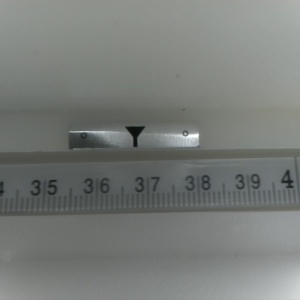3: (82, 178, 93, 194), (30, 180, 41, 196), (234, 174, 245, 190), (134, 176, 144, 192), (184, 175, 194, 191)
4: (280, 169, 295, 189)
5: (47, 180, 57, 195)
6: (98, 177, 109, 193)
7: (150, 176, 160, 192)
8: (200, 174, 210, 190)
9: (250, 174, 261, 189)
finger: (123, 126, 145, 148)
